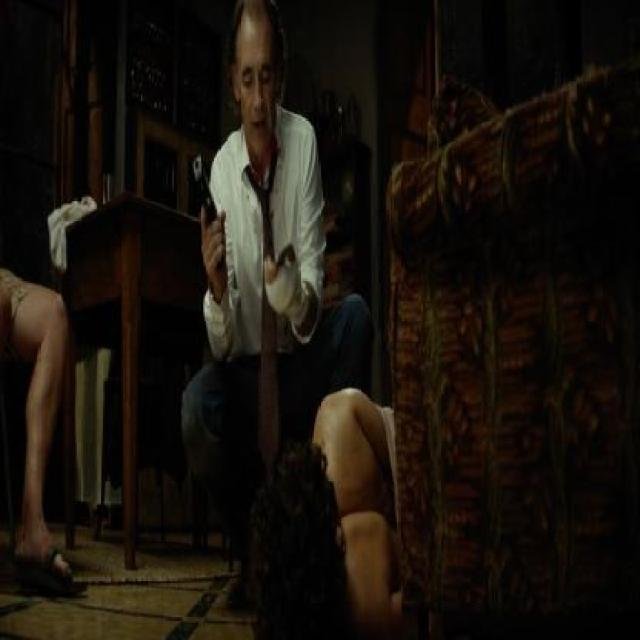gun: (187, 130, 233, 253)
